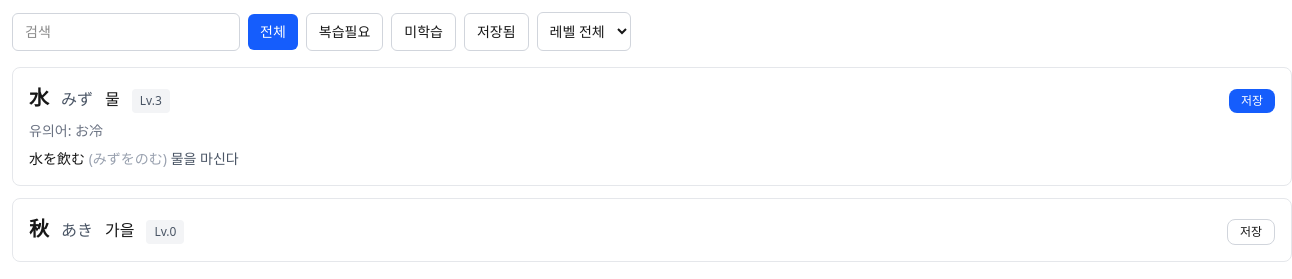
Scenario: WordCardList › '저장됨' 필터를 누르면 저장된 카드만 남는다 (#11)
Click the button "저장됨" at [496, 32], box [464,12,528,50]
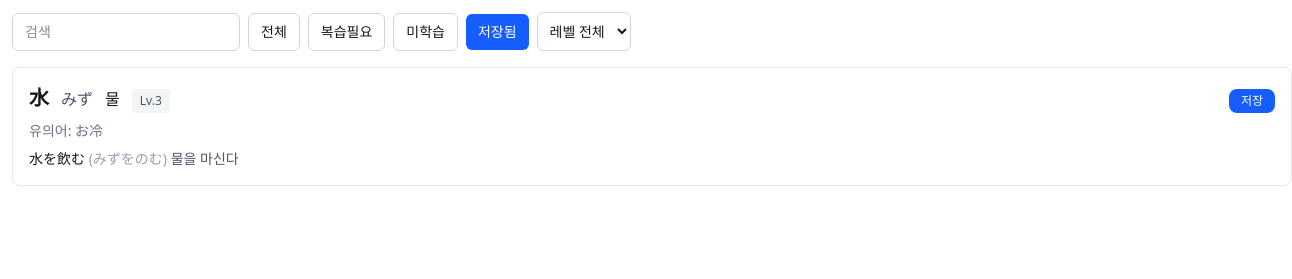
Check: the text "水" is shown, box [29,84,49,112]
Check: the text "秋" is gone
